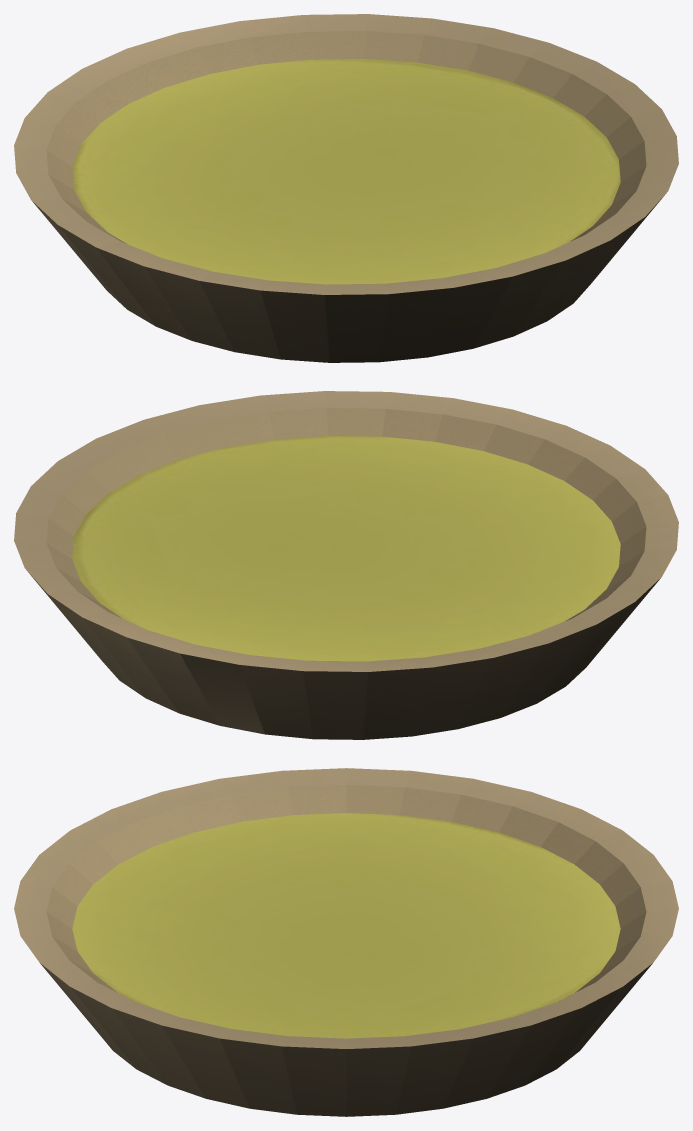
The model's file is custardpie2.dae.
The picture shows the model from 3 angles, top to bottom: view 1: azimuth 30°, elevation 25°; view 2: azimuth 150°, elevation 25°; view 3: azimuth 270°, elevation 25°; orthographic projection.
Parts seen in each view (by area): view 1: Cylinder; view 2: Cylinder; view 3: Cylinder.
Boxes of the visible parts, left/top/right/bottom form: Cylinder: left=14, top=14, right=678, bottom=362; Cylinder: left=14, top=391, right=678, bottom=739; Cylinder: left=14, top=768, right=678, bottom=1116.
Bounding box in the file's own units: 2.8 × 2.8 × 0.4719.
Materials: 1 (1 with a texture image).
